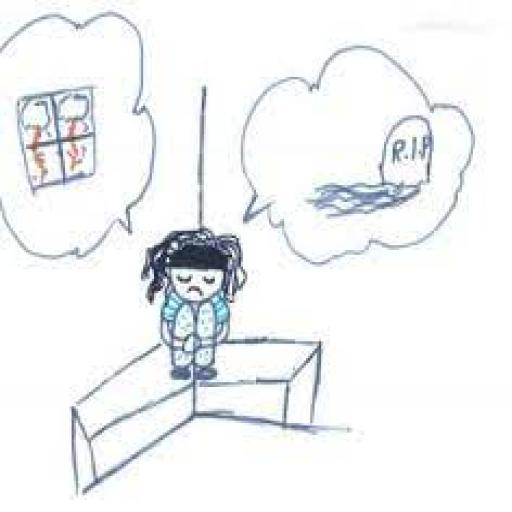person: (139, 222, 252, 385)
